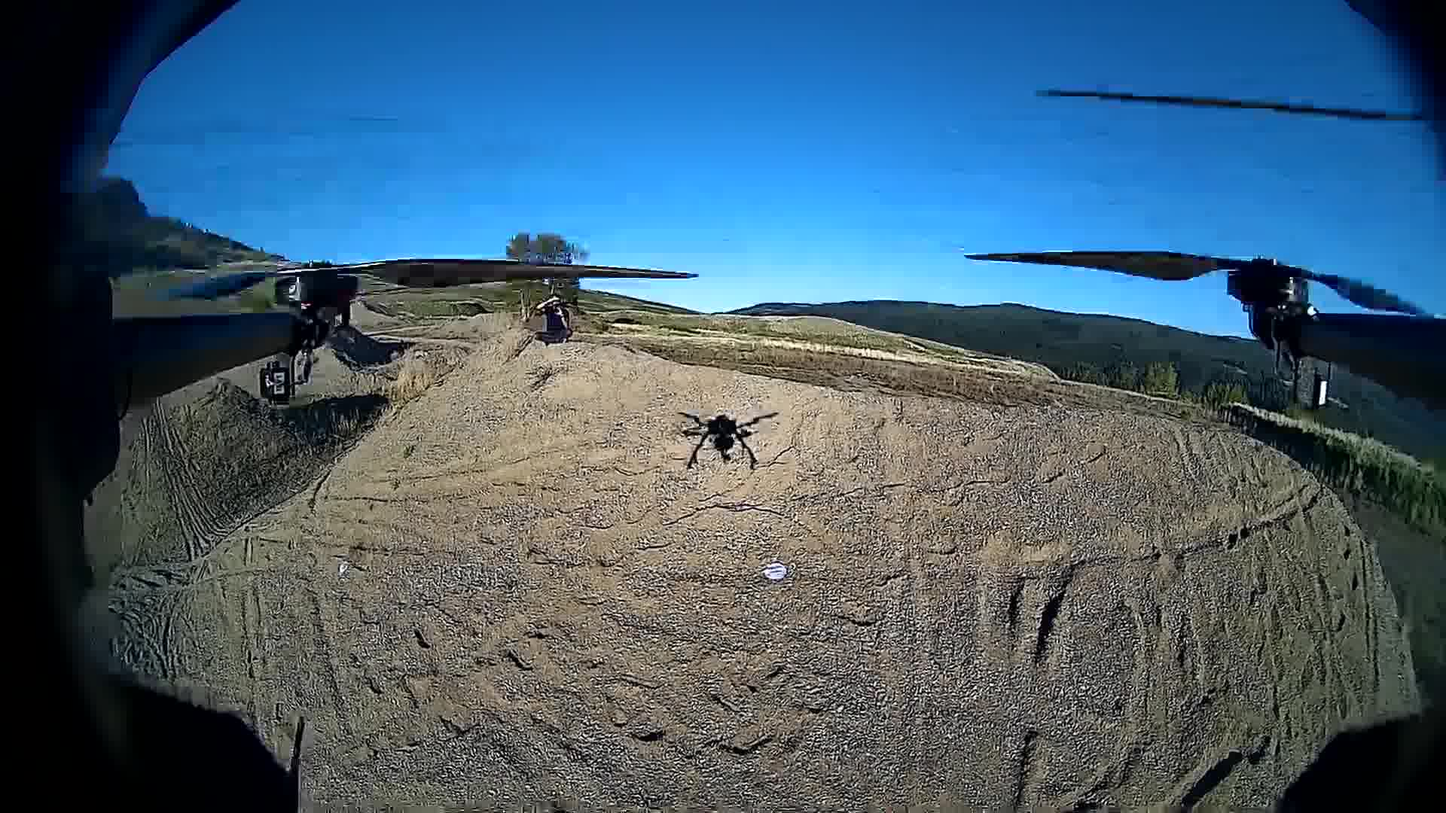Target: (767, 563, 786, 580)
